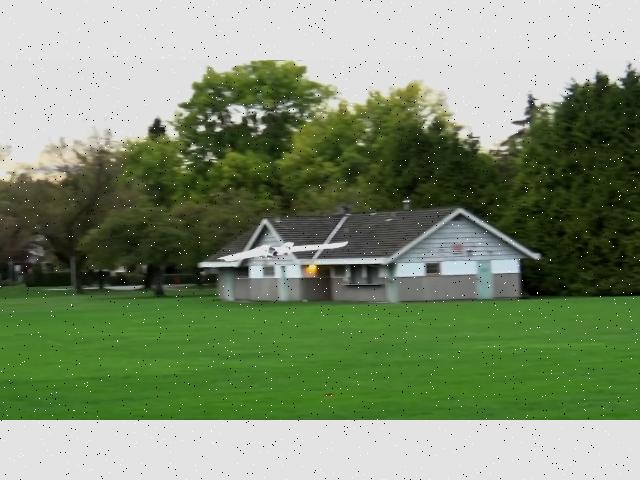Anti-Drone: (218, 242, 348, 262)
